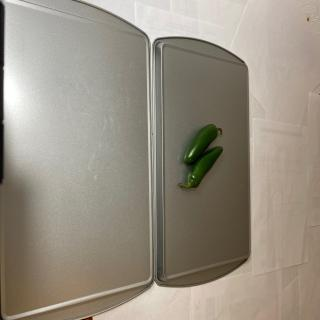Chilli: (179, 145, 223, 189), (184, 123, 222, 164)
